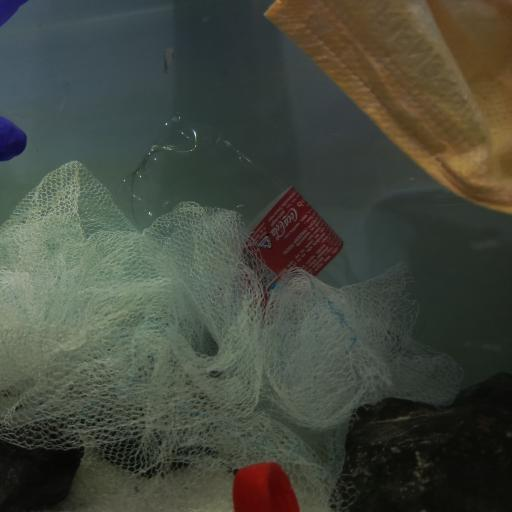bottle_cap: (233, 460, 301, 512)
glove: (2, 0, 28, 161)
mask: (260, 0, 512, 219)
net: (0, 158, 465, 500)
plastic_bottle: (108, 113, 356, 284)
